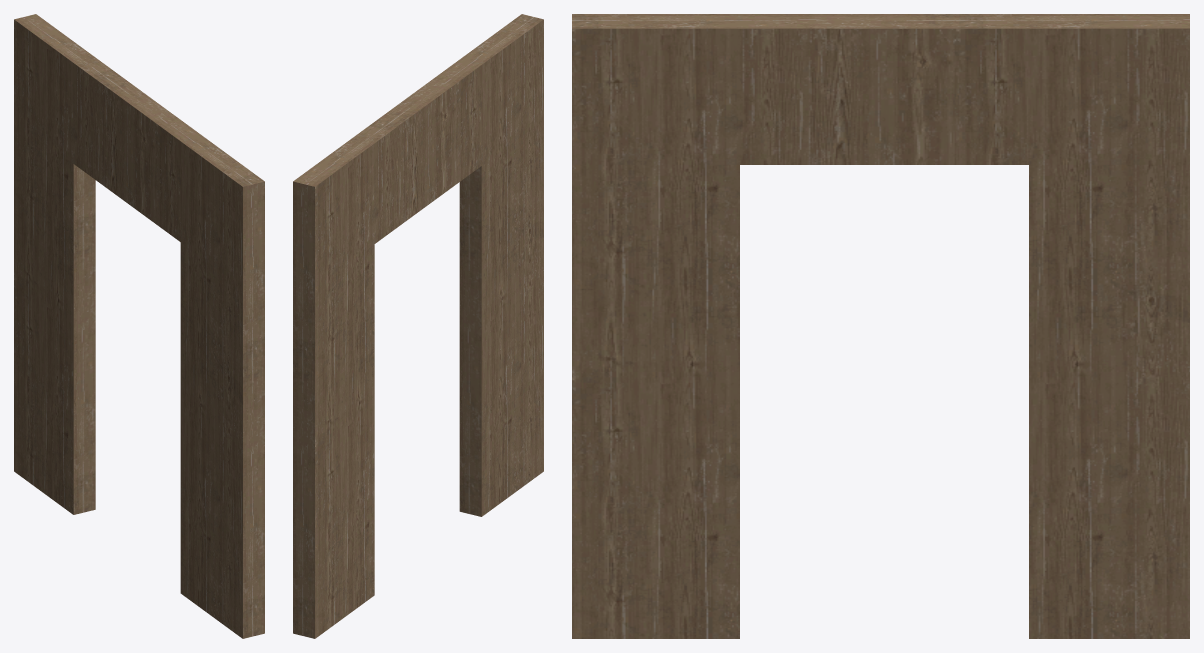
Rendered from soupdoorwall024.glb.
The picture shows the model from 3 angles, left to right: view 1: azimuth 30°, elevation 25°; view 2: azimuth 150°, elevation 25°; view 3: azimuth 270°, elevation 25°; orthographic projection. The views are drawn at different scales.
Visible parts, largest first — view 1: soupdoorwall024_high_1; view 2: soupdoorwall024_high_1; view 3: soupdoorwall024_high_1.
Boxes of the visible parts, x1,y1,x2,y2 form: soupdoorwall024_high_1: (14, 14, 264, 638); soupdoorwall024_high_1: (293, 14, 543, 638); soupdoorwall024_high_1: (572, 14, 1189, 638).
Bounding box in the file's own units: 0.1504 × 2.95 × 2.7.
Materials: 1 (1 with a texture image).
